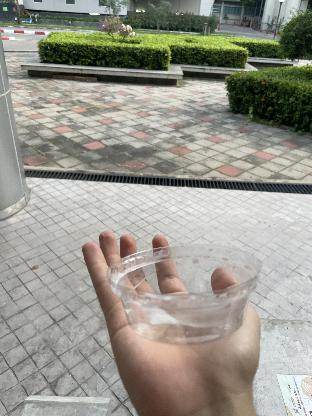Plastic Cup: (106, 239, 260, 342)
